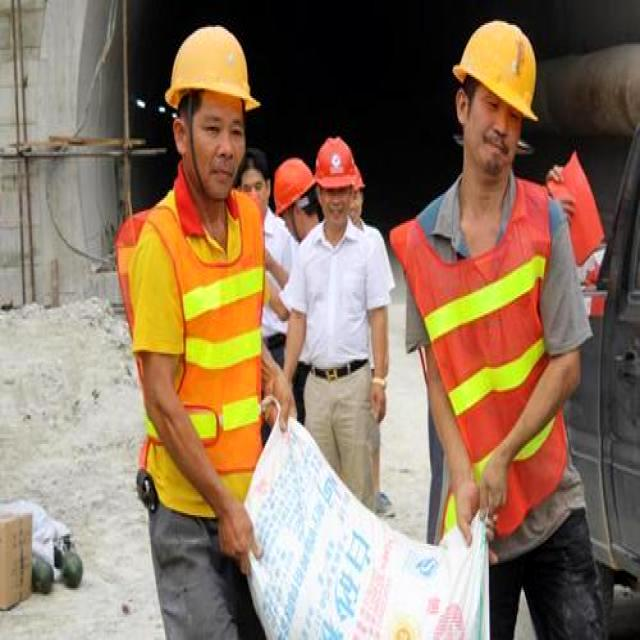hard_hat: (452, 19, 536, 121), (165, 27, 260, 113), (315, 136, 362, 186), (274, 158, 315, 213)
no_head_wear: (240, 144, 270, 182)
person: (387, 20, 597, 634), (129, 27, 291, 638), (284, 136, 392, 507), (236, 148, 296, 294), (274, 158, 321, 309)
